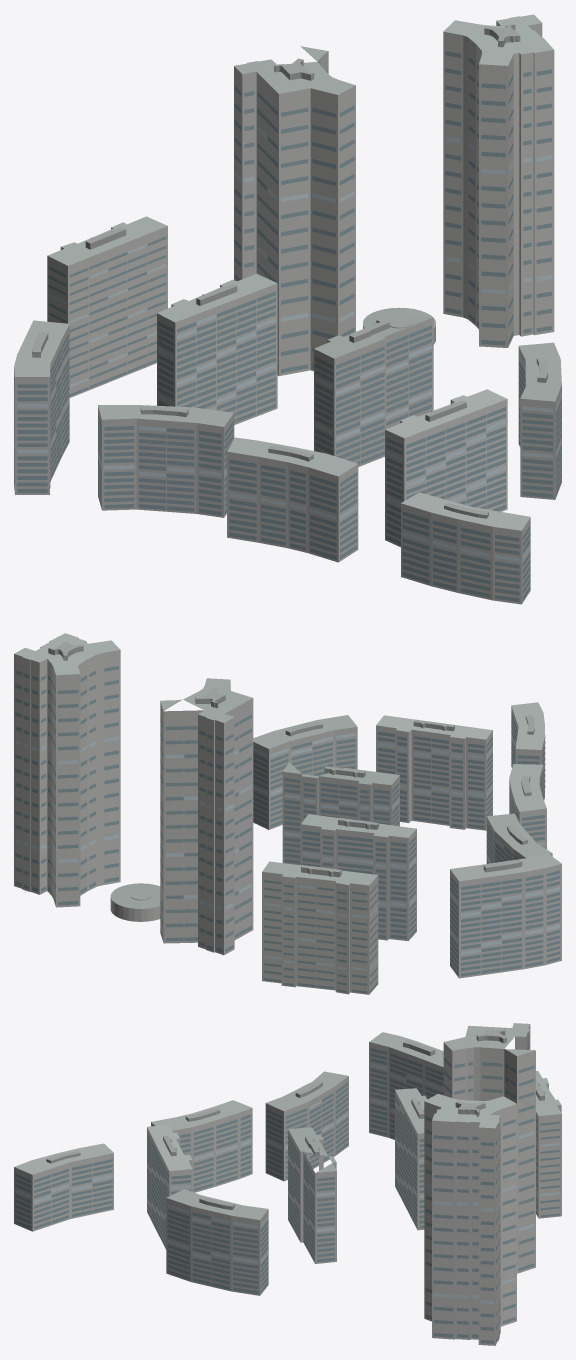
File: apt-a12127003.glb
3 renders of one model, top to bottom at view 1: azimuth 30°, elevation 25°; view 2: azimuth 150°, elevation 25°; view 3: azimuth 270°, elevation 25°, orthographic. The views are drawn at different scales.
Visible parts, largest first — view 1: apt-a12127003; view 2: apt-a12127003; view 3: apt-a12127003.
Part boxes in pixels (x1,y1,x2,y2): apt-a12127003: (14,14,561,604); apt-a12127003: (14,633,561,994); apt-a12127003: (14,1023,561,1345).
Bounding box in the file's own units: 241 × 112 × 250.
